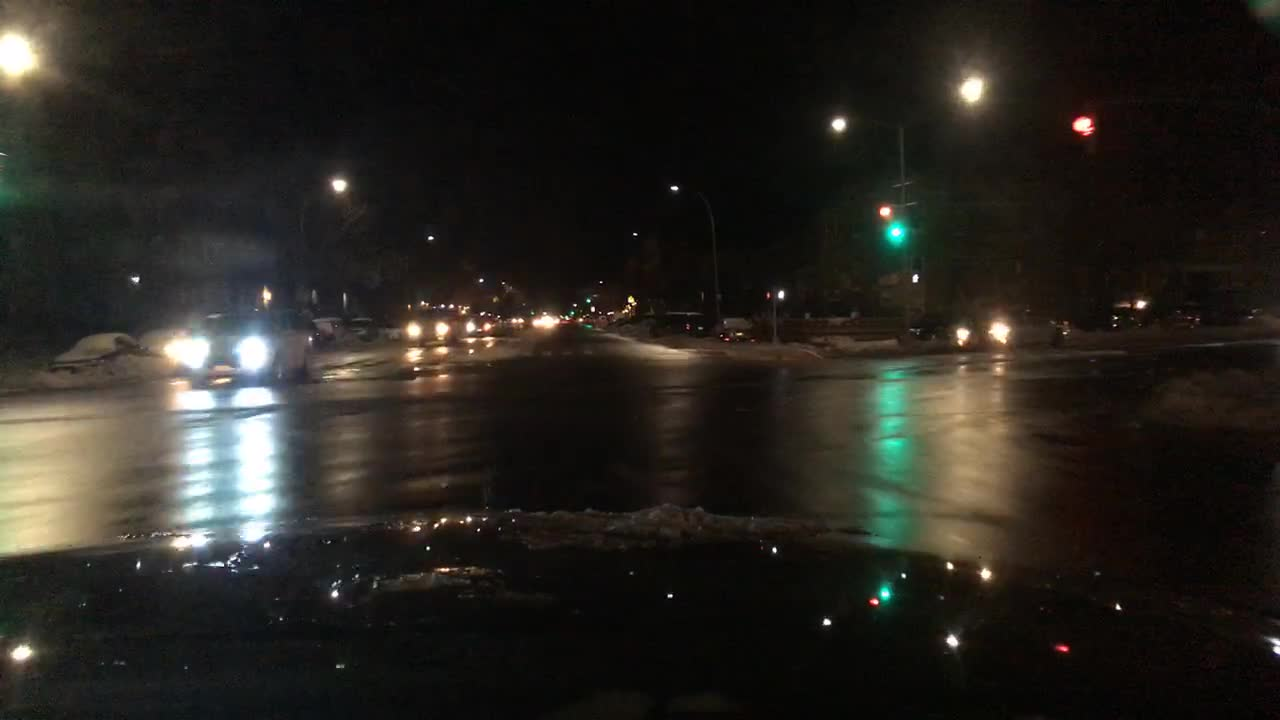car: (185, 309, 314, 380), (953, 304, 1060, 349), (47, 329, 137, 369), (1166, 288, 1252, 325), (403, 307, 455, 344), (140, 326, 185, 363), (908, 305, 953, 341), (648, 310, 708, 336), (462, 309, 503, 341), (1099, 303, 1147, 329), (312, 314, 347, 342), (346, 314, 381, 341), (717, 327, 759, 344), (374, 315, 400, 337), (531, 314, 557, 331), (509, 310, 525, 326)
traffic light: (1070, 101, 1097, 155), (877, 202, 893, 234), (887, 216, 901, 246), (908, 260, 921, 283), (774, 285, 786, 300), (762, 287, 773, 300)
